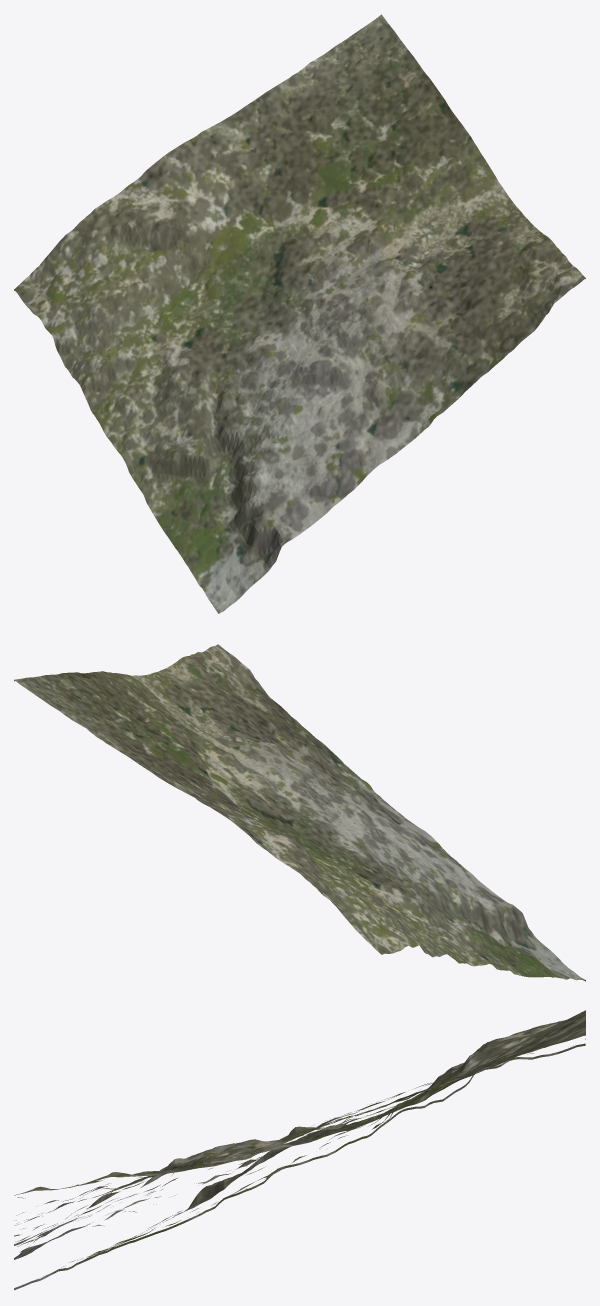
3 renders of one model, top to bottom at view 1: azimuth 30°, elevation 25°; view 2: azimuth 150°, elevation 25°; view 3: azimuth 270°, elevation 25°, orthographic. The views are drawn at different scales.
Size of the model in its own units: 250 by 235 by 241.
Materials: 1 (1 with a texture image).
